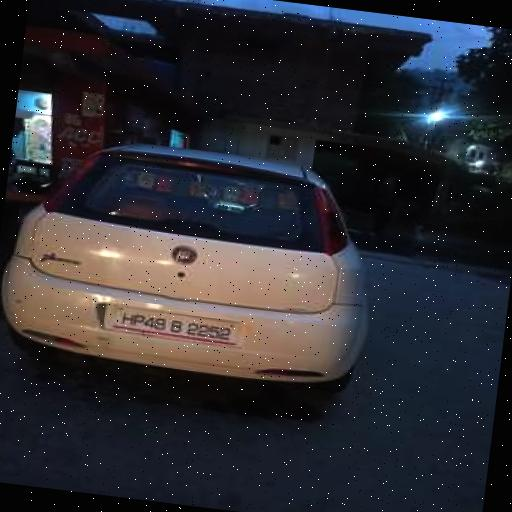license_plate`: (102, 300, 240, 344)
